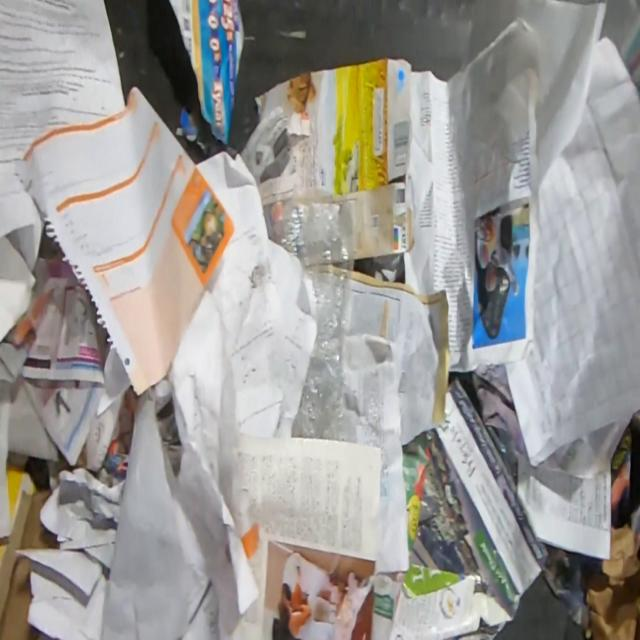cardboard: (252, 55, 415, 260), (0, 458, 60, 640), (384, 562, 516, 640), (584, 519, 640, 640)
rigid_plastic: (274, 191, 356, 442)
